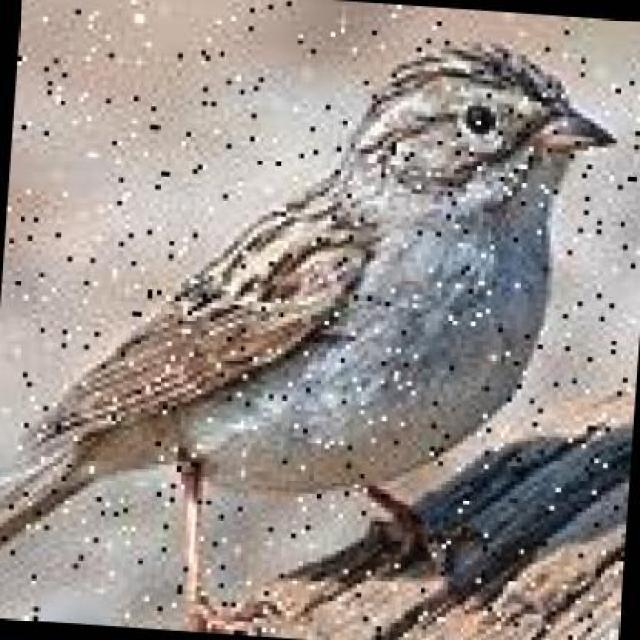Bird: (2, 36, 607, 603)
